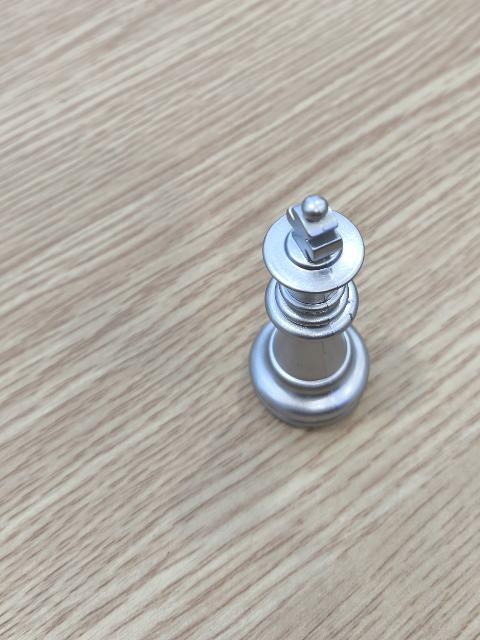white_king: (250, 196, 371, 423)
